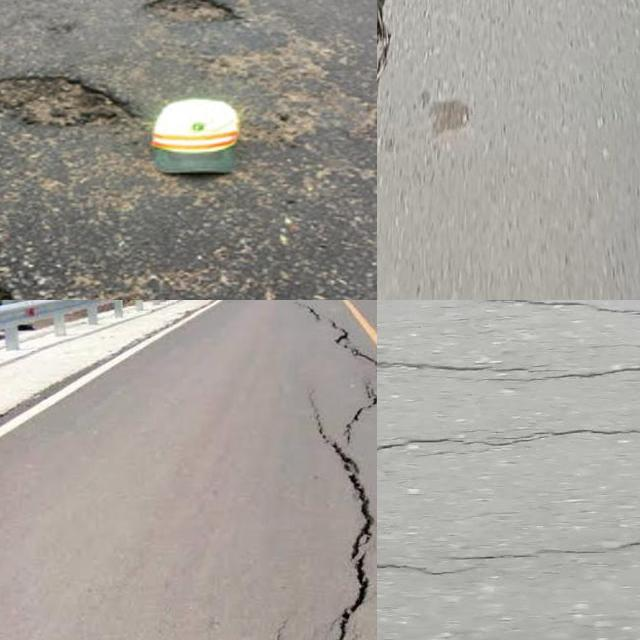Lubang: (0, 75, 143, 132), (151, 0, 242, 31)
Melintang: (377, 409, 640, 464), (377, 529, 640, 583), (377, 300, 640, 327)
Memanjang: (294, 302, 377, 640)
